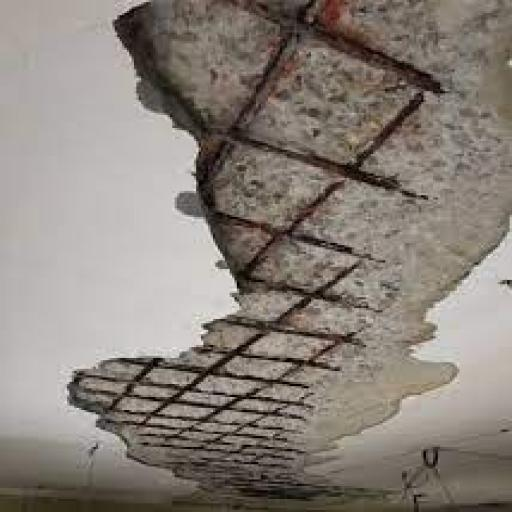spalling: (67, 0, 512, 510)
